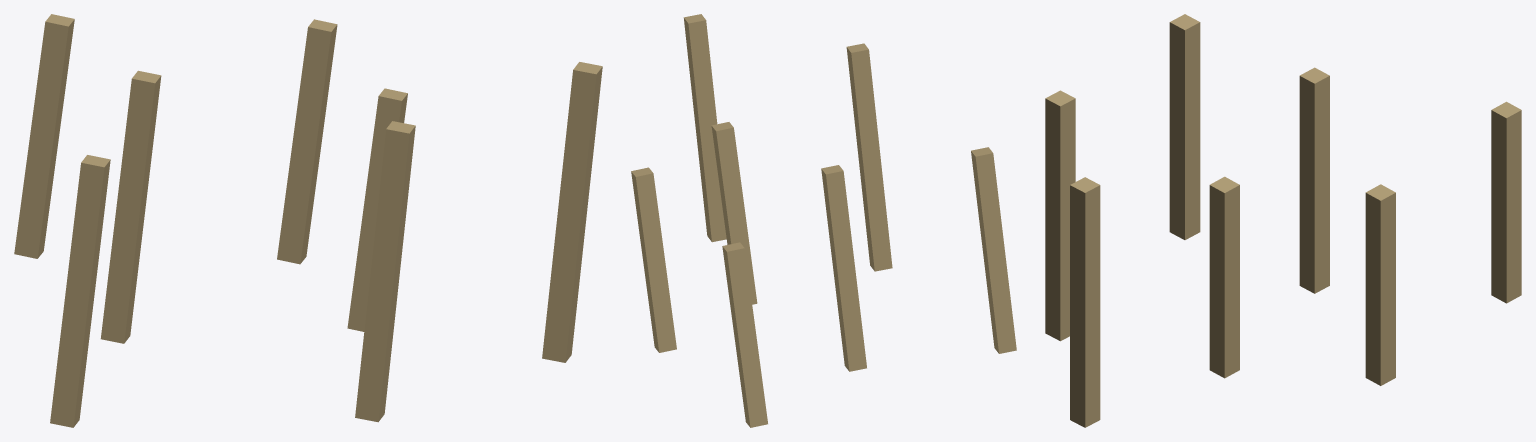
File: crop_rye_spent.glb
The picture shows the model from 3 angles, left to right: view 1: azimuth 30°, elevation 25°; view 2: azimuth 150°, elevation 25°; view 3: azimuth 270°, elevation 25°; orthographic projection. The views are drawn at different scales.
Visible parts, largest first — view 1: crop_rye_spent; view 2: crop_rye_spent; view 3: crop_rye_spent.
Boxes of the visible parts, x1,y1,x2,y2 form: crop_rye_spent: (14, 14, 602, 427); crop_rye_spent: (631, 14, 1016, 427); crop_rye_spent: (1045, 14, 1521, 427).
Bounding box in the file's own units: 0.399 × 0.2191 × 0.3756.
